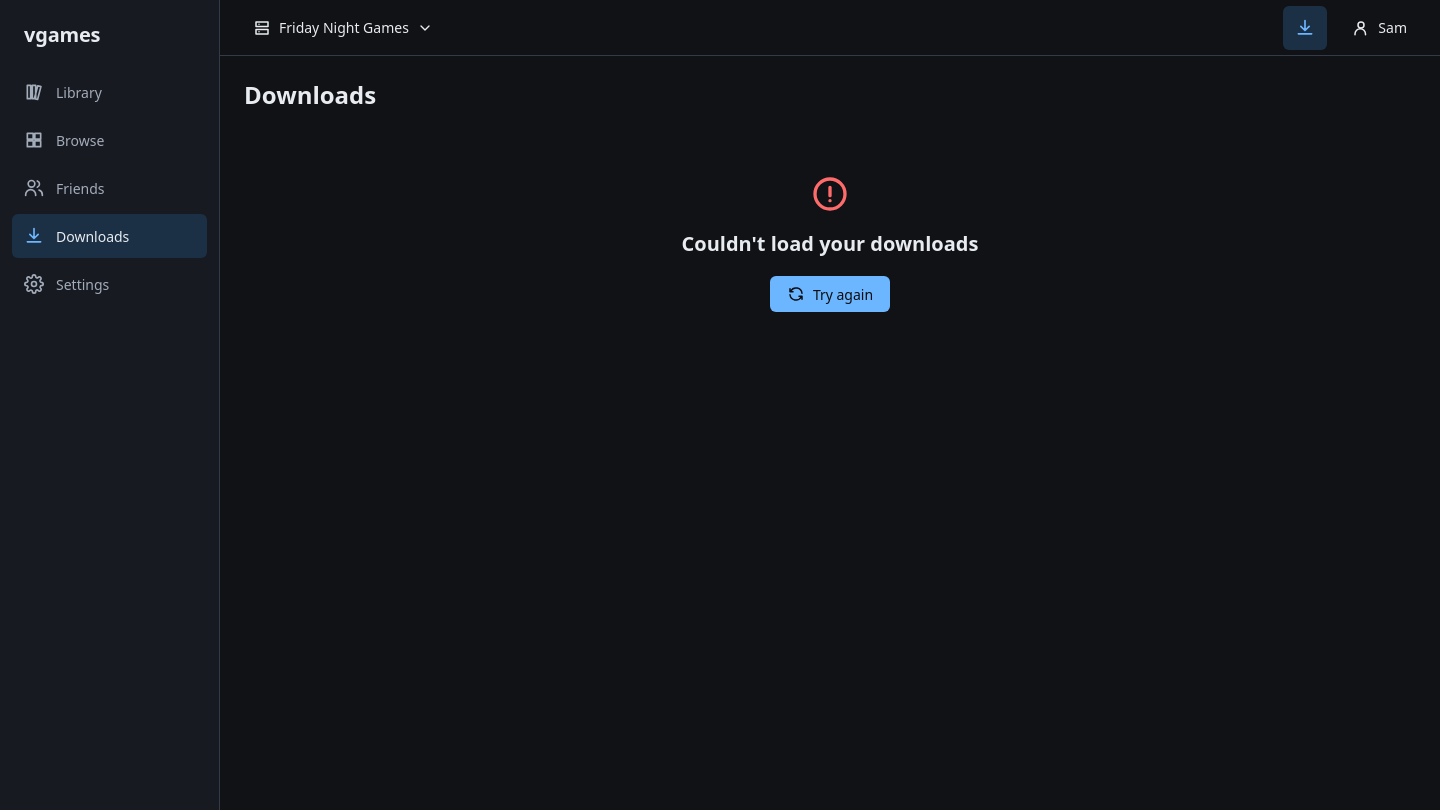
Test case: downloads › shows an error with a retry when the queue can't be read
Expected: the heading "Couldn't load your downloads" is shown, x1=682 y1=231 x2=978 y2=256
Click the button "Try again" at (830, 294), box x1=770 y1=276 x2=890 y2=312
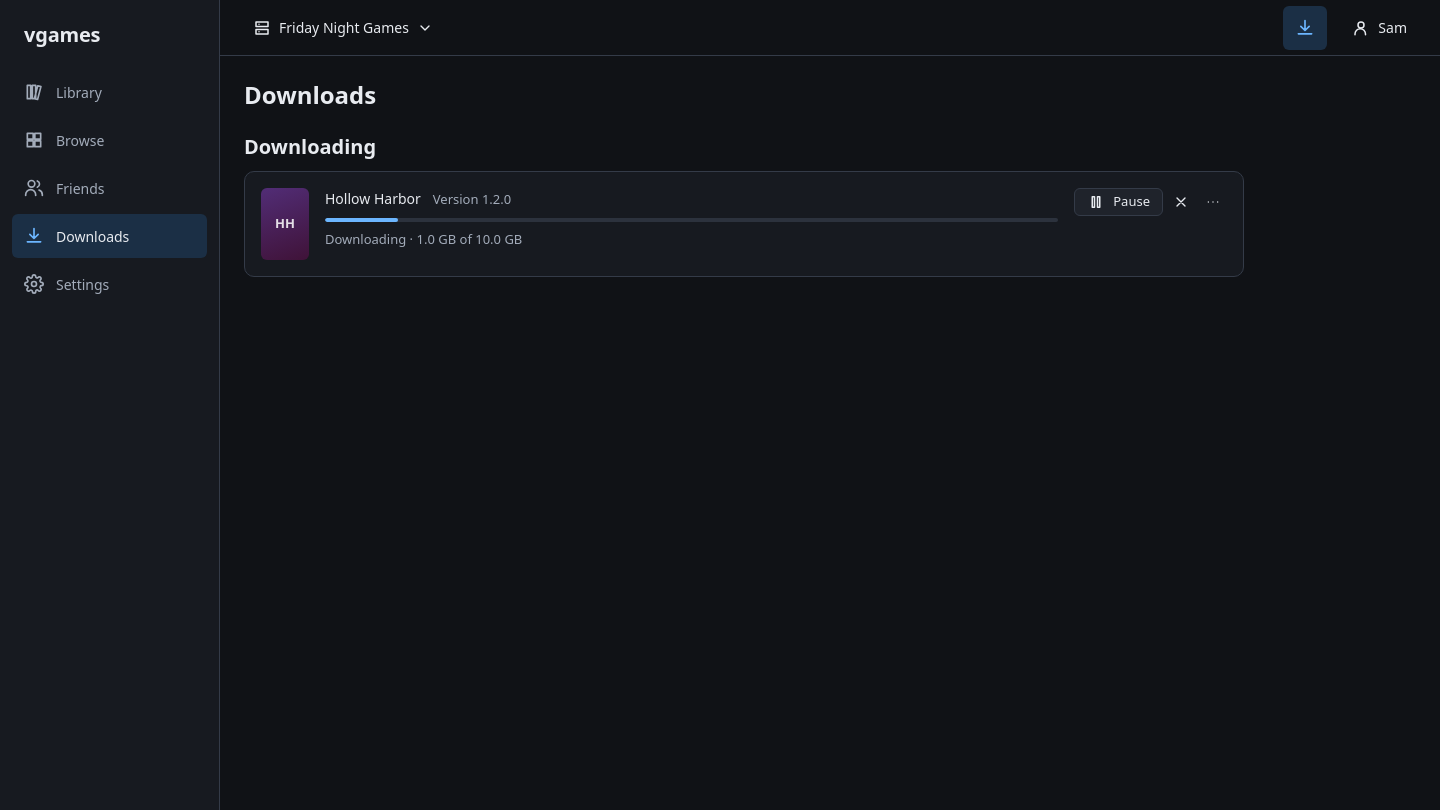
Result: the heading "Hollow Harbor" is shown at x1=325 y1=188 x2=421 y2=209
